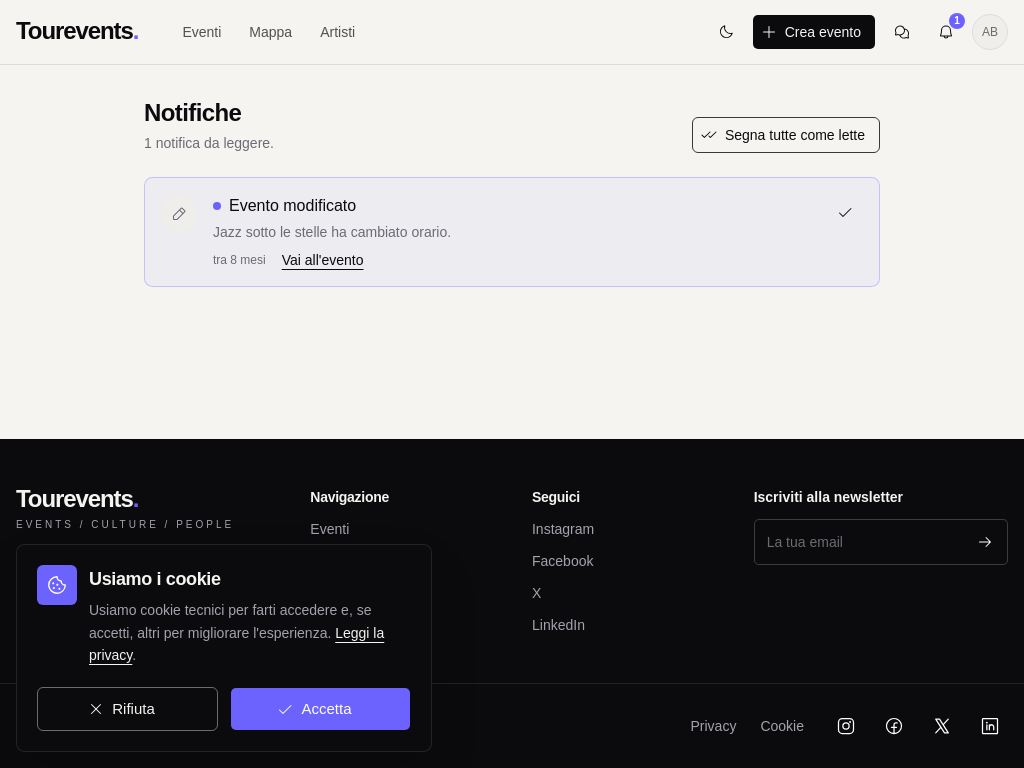
it: NotificationsPage › segna una notifica come letta e aggiorna contatore e campanella
Click the button named "Segna come letta: Evento modificato".
click(845, 212)  # box [827,194,863,230]
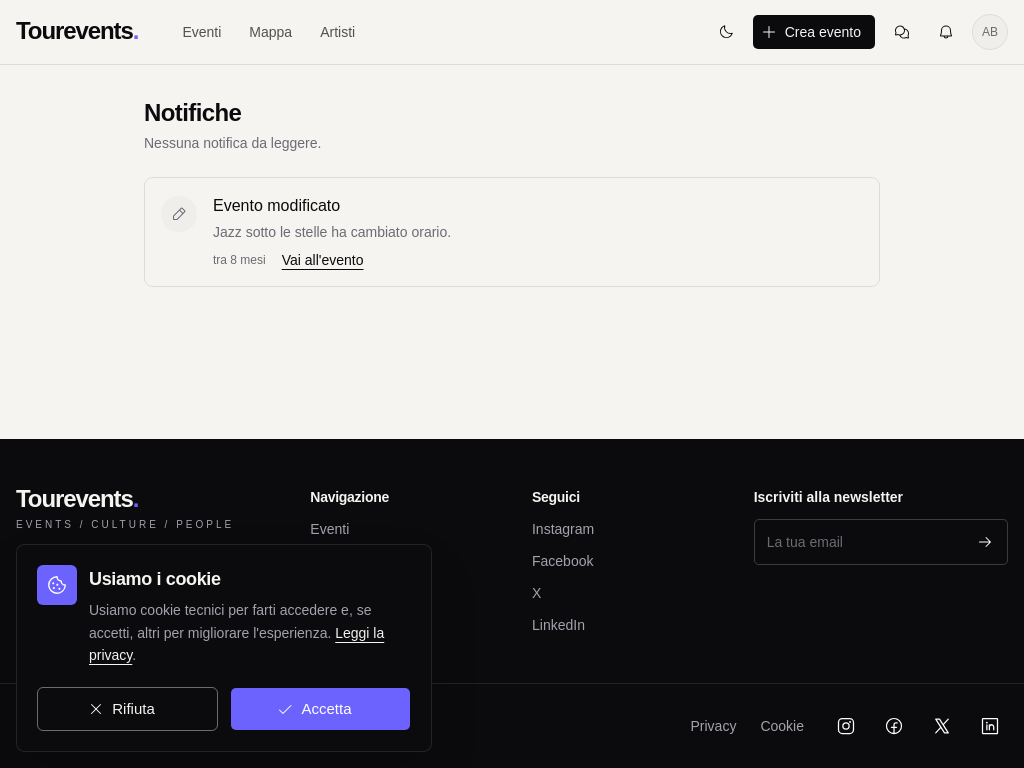
Check: the link named "Notifiche" is shown, box [938,24,954,40]
Check: the text "Nessuna notifica da leggere." is shown, box [144,133,322,153]
